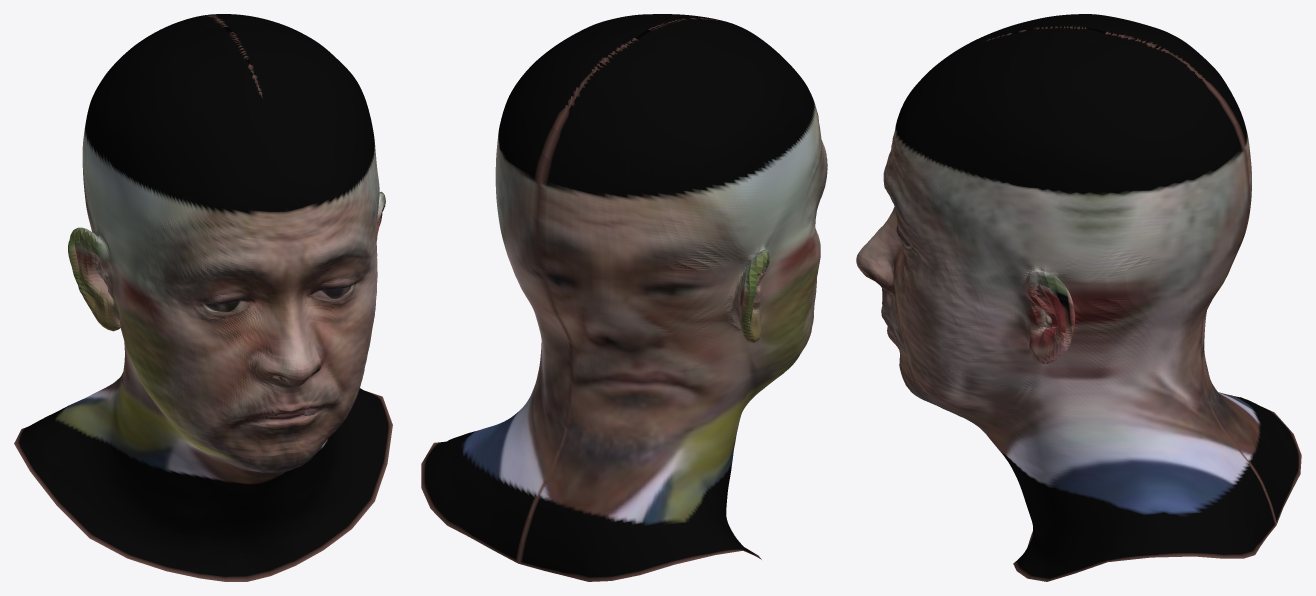
The model's file is mesh_coarse_detail.obj.
3 views of the same model, side by side, from view 1: azimuth 30°, elevation 25°; view 2: azimuth 150°, elevation 25°; view 3: azimuth 270°, elevation 25° (orthographic).
Size of the model in its own units: 0.2133 by 0.3235 by 0.2455.
